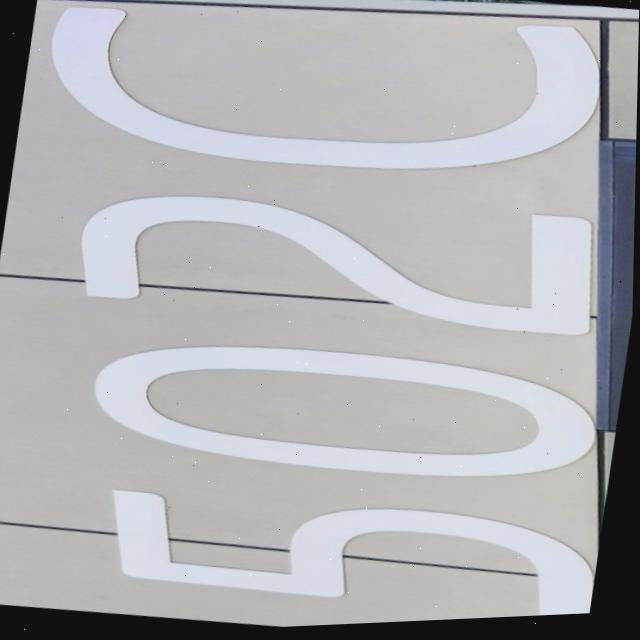character: (27, 0, 617, 213), (60, 149, 612, 362), (76, 305, 613, 514), (85, 459, 603, 636)
